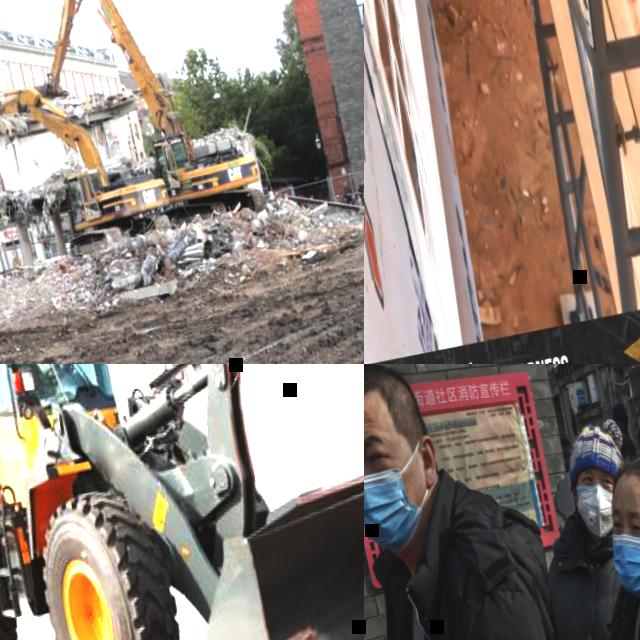Mask: (364, 462, 430, 561), (572, 479, 621, 543), (608, 526, 640, 606)
NO-Hardhat: (561, 417, 627, 480), (364, 364, 419, 428), (605, 451, 640, 523), (611, 400, 630, 420), (559, 437, 572, 451)
NO-Safety Vest: (364, 497, 587, 640), (543, 532, 640, 640), (623, 434, 636, 457), (562, 448, 575, 470), (346, 188, 354, 200), (360, 185, 364, 196)
Person: (364, 364, 613, 640), (514, 417, 640, 640), (608, 402, 640, 465), (560, 432, 576, 470), (342, 182, 357, 206), (357, 180, 364, 208)
vehicle: (0, 364, 364, 640), (10, 0, 273, 251), (0, 57, 178, 269)
